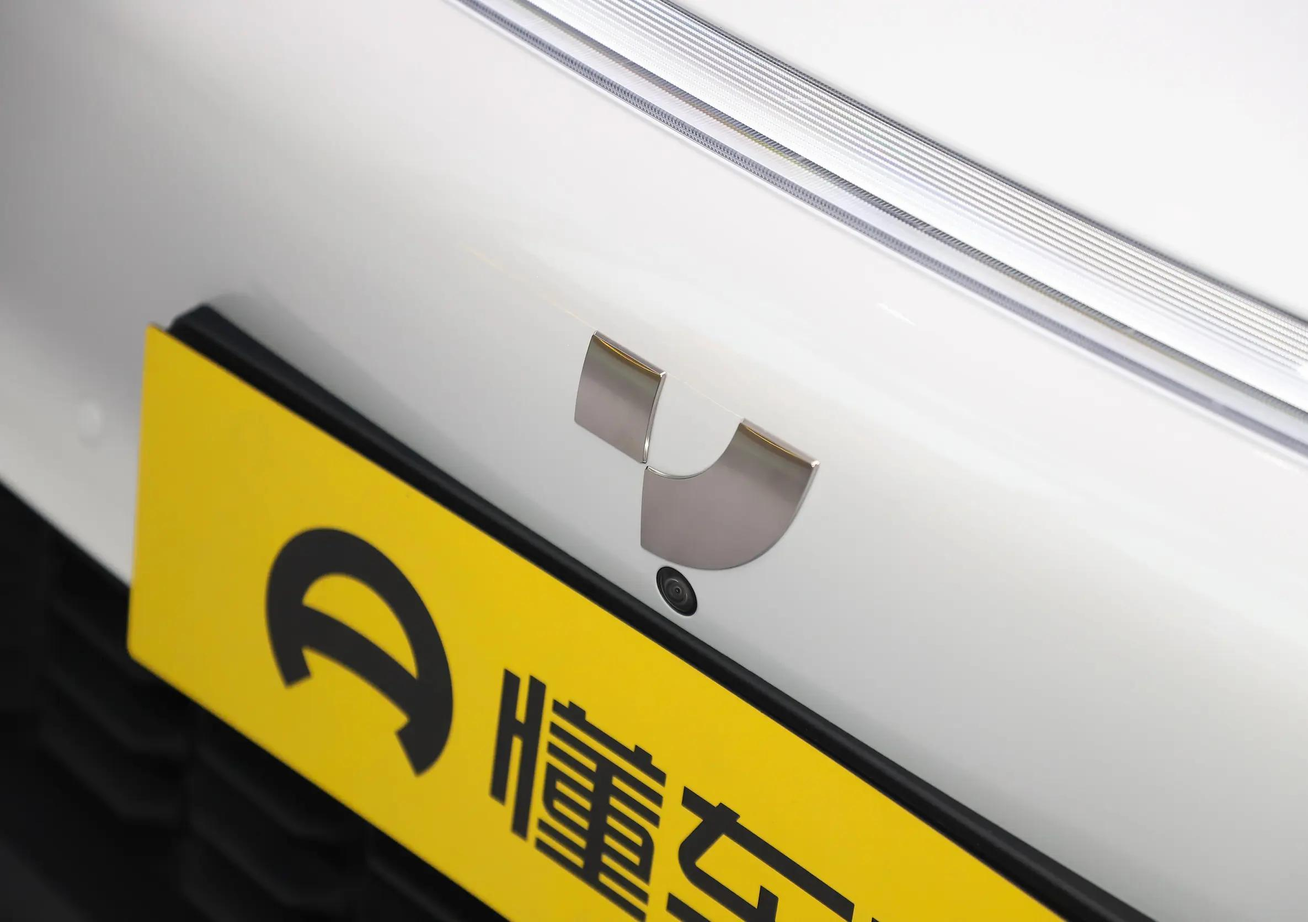JIYUE: (573, 330, 820, 570)
